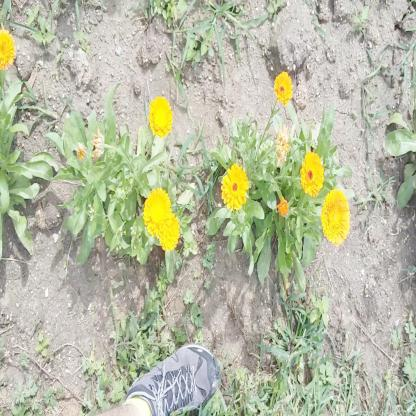marigold: (323, 188, 350, 246), (143, 187, 169, 231), (147, 93, 173, 136), (300, 150, 324, 196), (224, 165, 248, 208), (154, 209, 176, 249), (0, 28, 16, 70), (273, 71, 293, 102)
